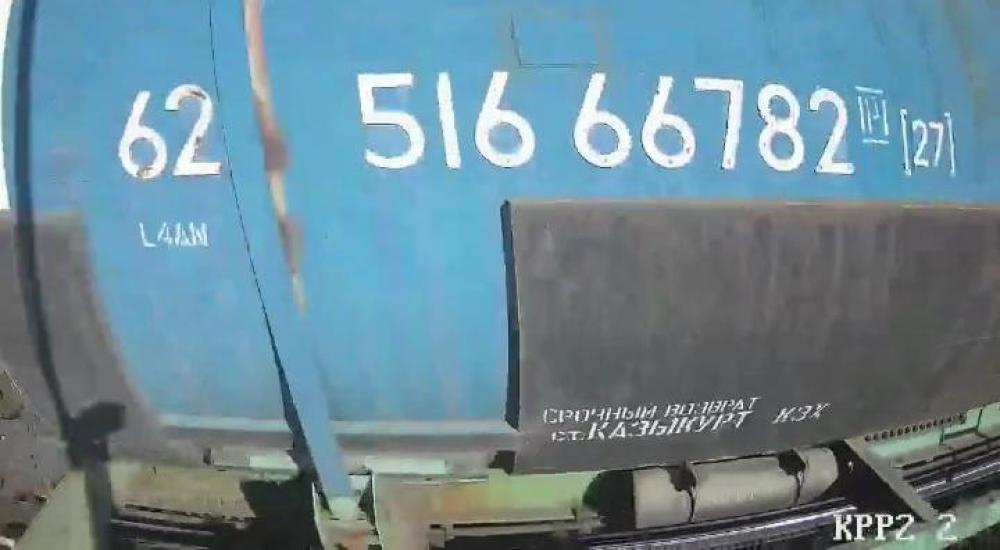Wagon-number: (350, 64, 859, 181)
